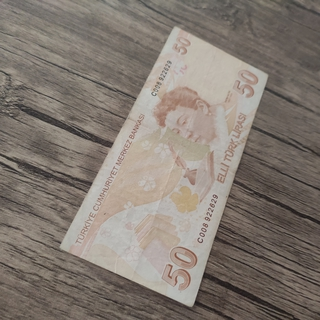50TLBack: (60, 25, 269, 307)
